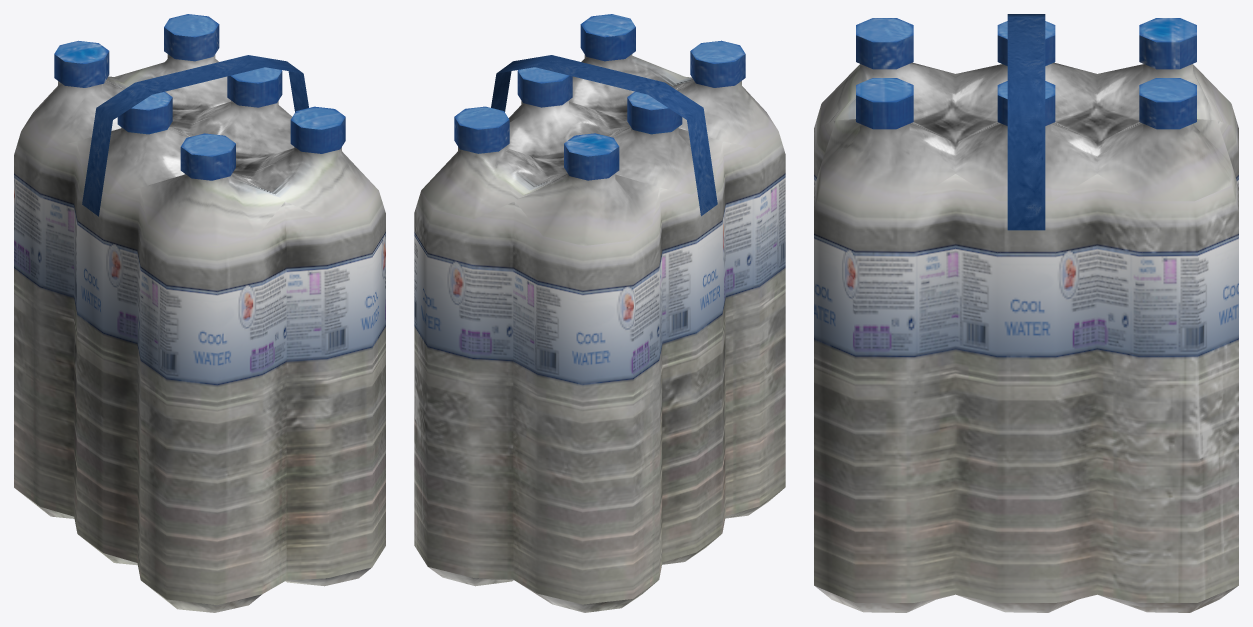
Rendered from Product_water_pack2.FBX.
3 views of the same model, side by side, from view 1: azimuth 30°, elevation 25°; view 2: azimuth 150°, elevation 25°; view 3: azimuth 270°, elevation 25° (orthographic). The views are drawn at different scales.
Visible parts, largest first — view 1: product_water_pack2_LOD00; view 2: product_water_pack2_LOD00; view 3: product_water_pack2_LOD00.
Part boxes in pixels (x1=…): product_water_pack2_LOD00: x1=14, y1=14, x2=385, y2=612; product_water_pack2_LOD00: x1=414, y1=14, x2=785, y2=612; product_water_pack2_LOD00: x1=814, y1=14, x2=1238, y2=612.
Size of what is drawn, in the model's own units: 0.1539 by 0.3072 by 0.2309.
